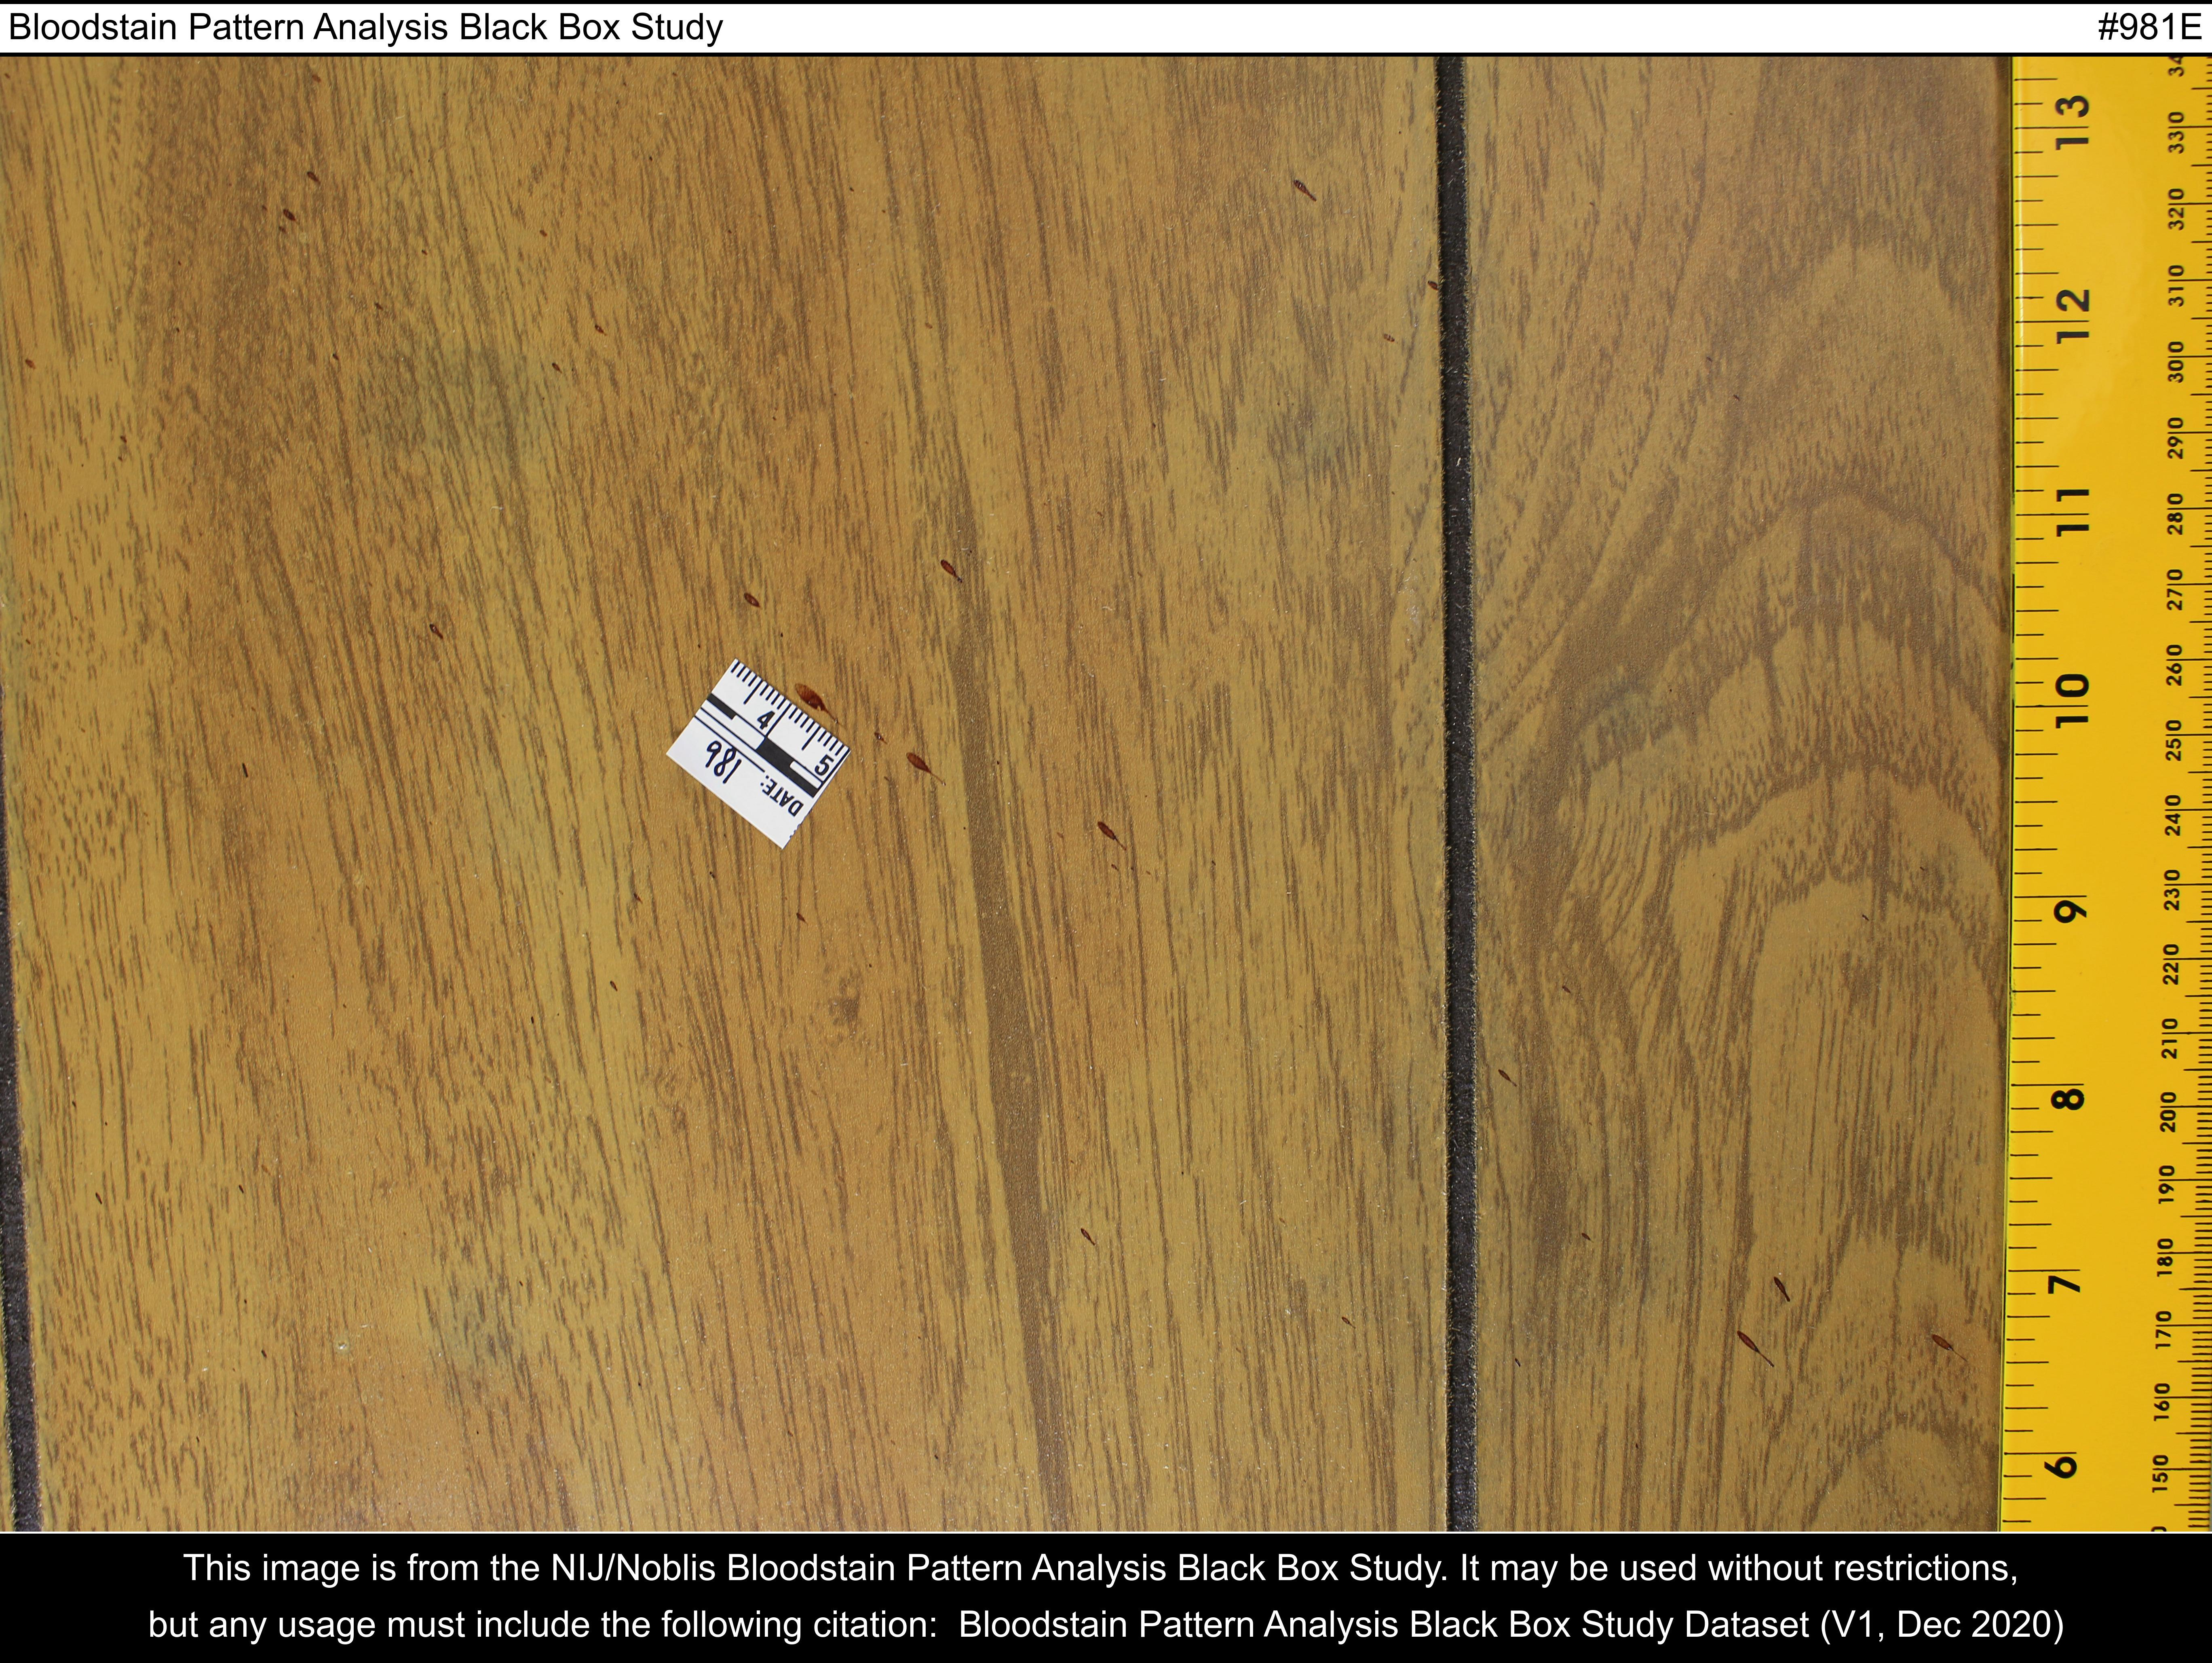Impact: (239, 119, 1983, 1394)
